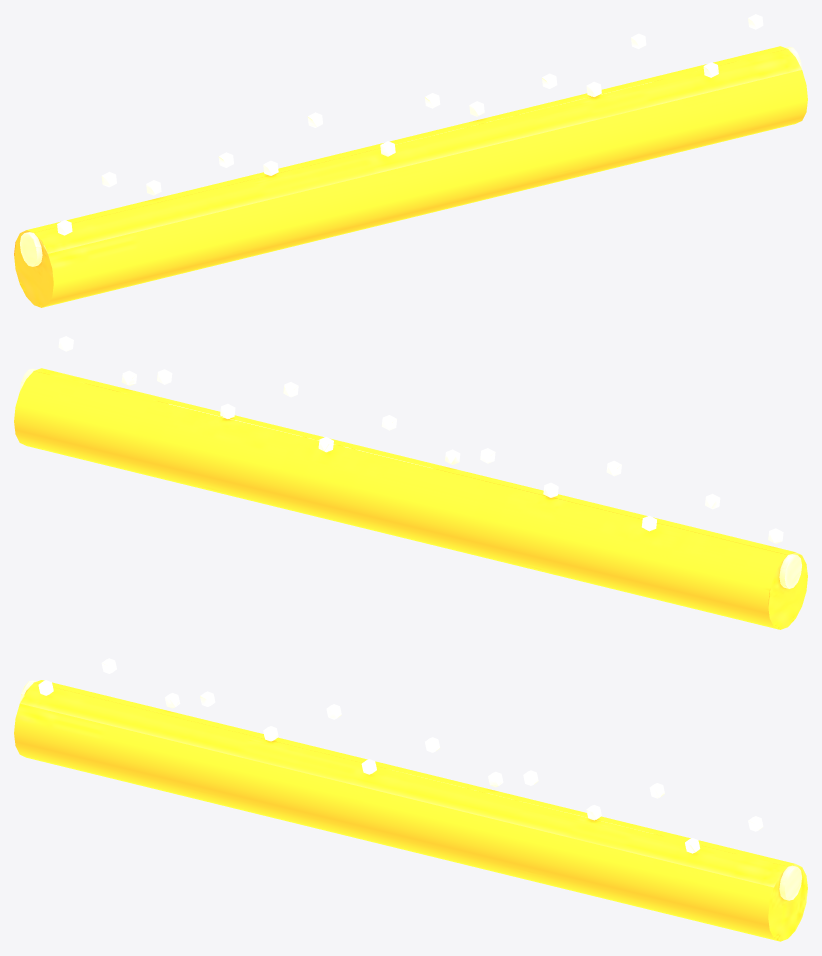
Rendered from onda_choque.glb.
3 renders of one model, top to bottom at view 1: azimuth 30°, elevation 25°; view 2: azimuth 150°, elevation 25°; view 3: azimuth 330°, elevation 25°, orthographic.
Parts seen in each view (by area): view 1: onda_choque; view 2: onda_choque; view 3: onda_choque.
Part boxes in pixels (x1,y1,x2,y2): onda_choque: (14, 14, 807, 307); onda_choque: (14, 336, 807, 629); onda_choque: (14, 658, 807, 941).
Size of the model in its own units: 7.1 by 1.02 by 0.64.
1 material, 1 textured.
